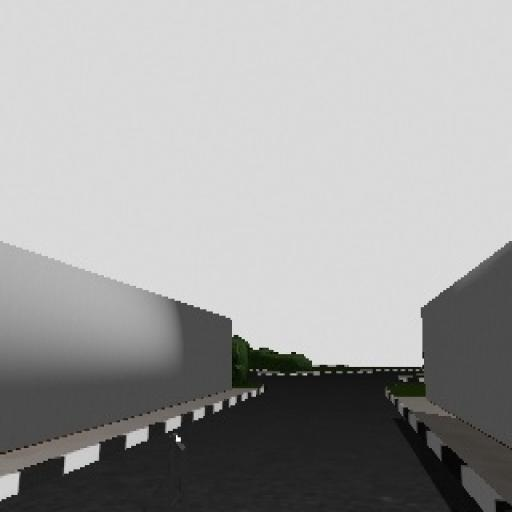huskya200: (138, 420, 216, 512)
